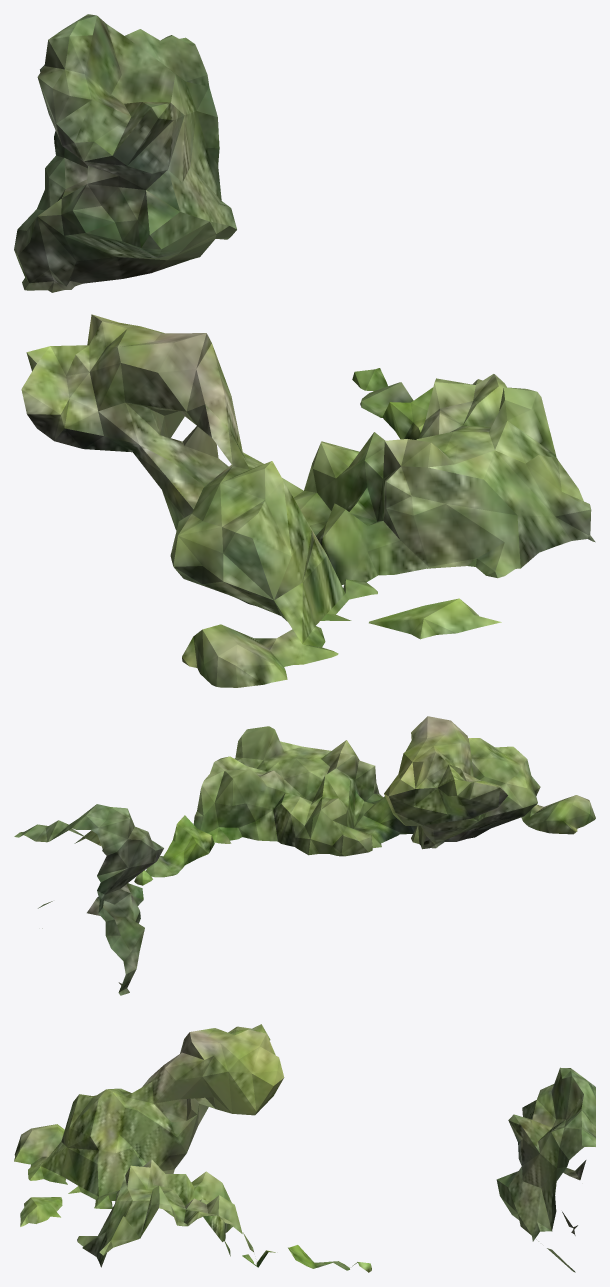
The picture shows the model from 3 angles, top to bottom: view 1: azimuth 30°, elevation 25°; view 2: azimuth 150°, elevation 25°; view 3: azimuth 270°, elevation 25°; orthographic projection. The views are drawn at different scales.
Size of the model in its own units: 14.17 by 7.87 by 25.27.
2 materials, 2 textured.
